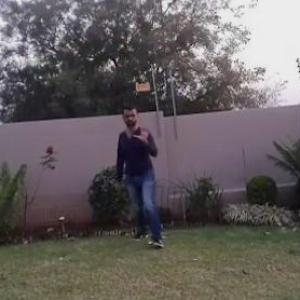follow_hand: (134, 120, 156, 146)
